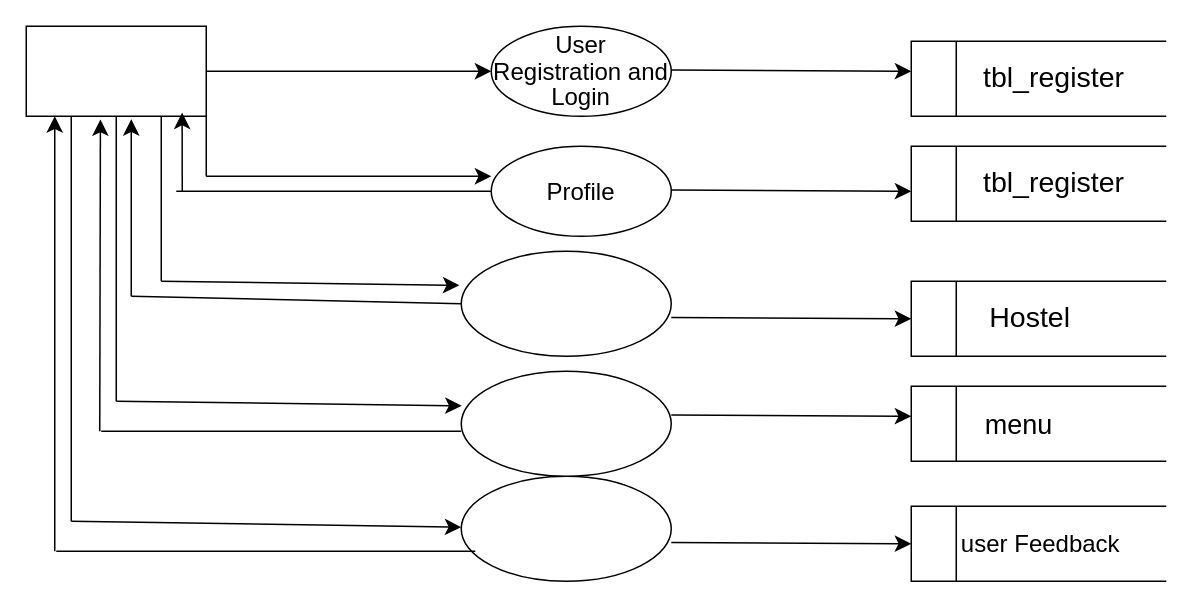
The diagram is 1193 pixels wide and 608 high, and some of its shapes have lost their labels. The shapes that lost their labels are listed below. From the top down, each one's centre as x and y in pixels, then its label:
At pixel 115 70: "user".
At pixel 565 303: "View Hostels".
At pixel 565 423: "View Menus".
At pixel 565 528: "Provide Feedback".
